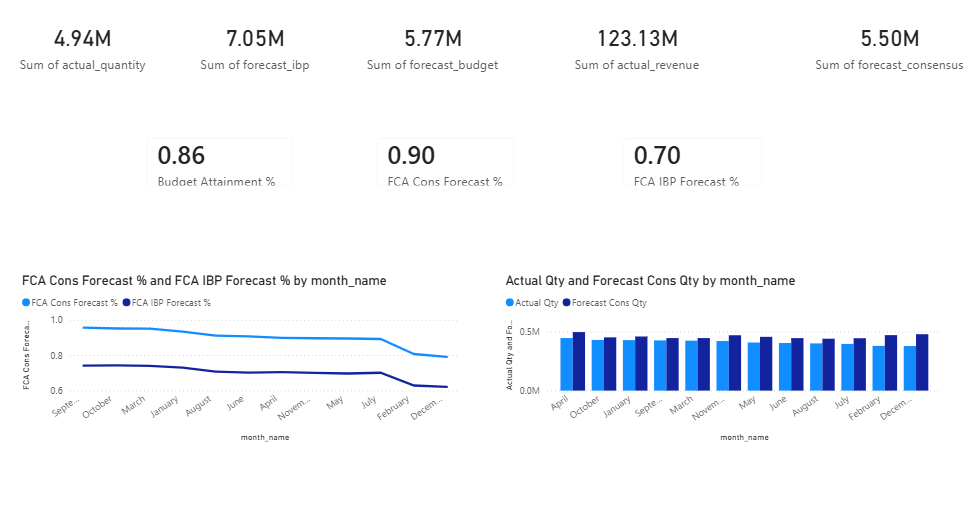

The dashboard page shown, as its layout file describes it:
{"tool":"powerbi","page":{"name":"Page 1","canvas":[1280,720],"ordinal":0},"visuals":[{"type":"card","fields":{"Values":["Sum(`hackathon` `gold` `fact_demand_actual`.actual_quantity)"]},"box":[9.6,0,208.3,139.4],"z":0},{"type":"card","fields":{"Values":["Sum(`hackathon` `gold` `fact_demand_actual`.actual_revenue)"]},"box":[684.2,0,280.4,139.4],"z":1000},{"type":"card","fields":{"Values":["Sum(`hackathon` `gold` `fact_demand_forcast`.forecast_consensus)"]},"box":[1015.9,0,264.4,139.4],"z":2000},{"type":"card","fields":{"Values":["Sum(`hackathon` `gold` `fact_demand_forcast`.forecast_ibp)"]},"box":[229.1,0,211.5,139.4],"z":3000},{"type":"card","fields":{"Values":["Sum(`hackathon` `gold` `fact_demand_forcast`.forecast_budget)"]},"box":[440.7,0,243.6,139.4],"z":4000},{"type":"cardVisual","fields":{"Data":["Table.Budget Attainment %"]},"box":[179.5,171.5,221.1,96.1],"z":5000},{"type":"cardVisual","fields":{"Data":["Table.FCA Cons Forecast %"]},"box":[474.3,171.5,209.9,96.1],"z":6000},{"type":"cardVisual","fields":{"Data":["Table.FCA IBP Forecast %"]},"box":[790,171.5,211.5,96.1],"z":7000},{"type":"lineChart","fields":{"Category":["dim_date.month_name"],"Y":["Table.FCA Cons Forecast %","Table.FCA IBP Forecast %"]},"box":[30.4,360.5,572.1,222.7],"z":8000},{"type":"lineClusteredColumnComboChart","fields":{"Category":["dim_date.month_name"],"Y":["Table.Actual Qty","Table.Forecast Cons Qty"]},"box":[650.6,360.5,568.9,222.7],"z":9000}]}

Visuals, with their boxes on the page's 1280x720 design canvas (x1, y1, x2, y2). These are canvas units, not pixel positions in the 976x511 screenshot, which may show the page scaled, cropped or inside an application window:
card - Sum(`hackathon` `gold` `fact_demand_actual`.actual_quantity): 10/0/218/139
card - Sum(`hackathon` `gold` `fact_demand_actual`.actual_revenue): 684/0/965/139
card - Sum(`hackathon` `gold` `fact_demand_forcast`.forecast_consensus): 1016/0/1280/139
card - Sum(`hackathon` `gold` `fact_demand_forcast`.forecast_ibp): 229/0/441/139
card - Sum(`hackathon` `gold` `fact_demand_forcast`.forecast_budget): 441/0/684/139
cardVisual - Table.Budget Attainment %: 180/172/401/268
cardVisual - Table.FCA Cons Forecast %: 474/172/684/268
cardVisual - Table.FCA IBP Forecast %: 790/172/1002/268
lineChart - dim_date.month_name x Table.FCA Cons Forecast %: 30/360/602/583
lineClusteredColumnComboChart - dim_date.month_name x Table.Actual Qty: 651/360/1220/583
